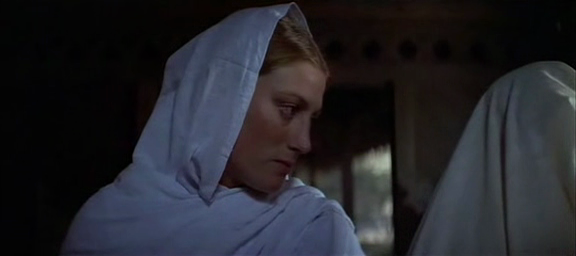cu: (1, 1, 576, 256)
face: (240, 60, 326, 194)
person: (58, 1, 367, 256)
